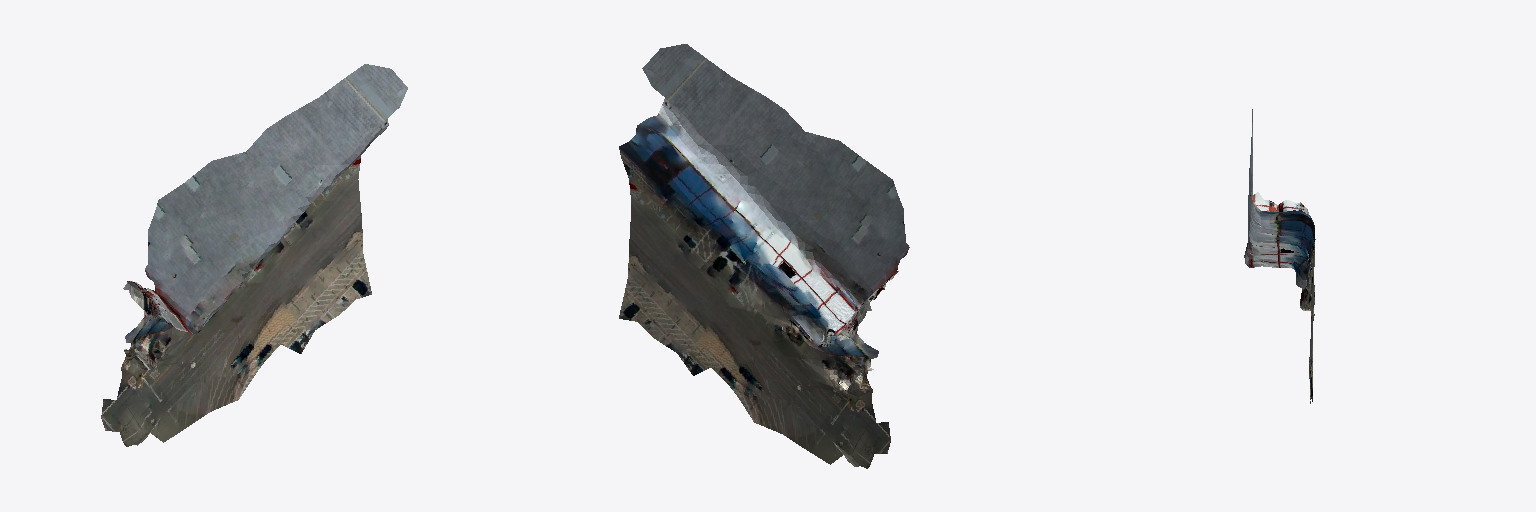
3 renders of one model, left to right at view 1: azimuth 30°, elevation 25°; view 2: azimuth 150°, elevation 25°; view 3: azimuth 270°, elevation 25°, orthographic.
Bounding box in the file's own units: 75.18 × 92.56 × 16.65.
Materials: 1 (1 with a texture image).